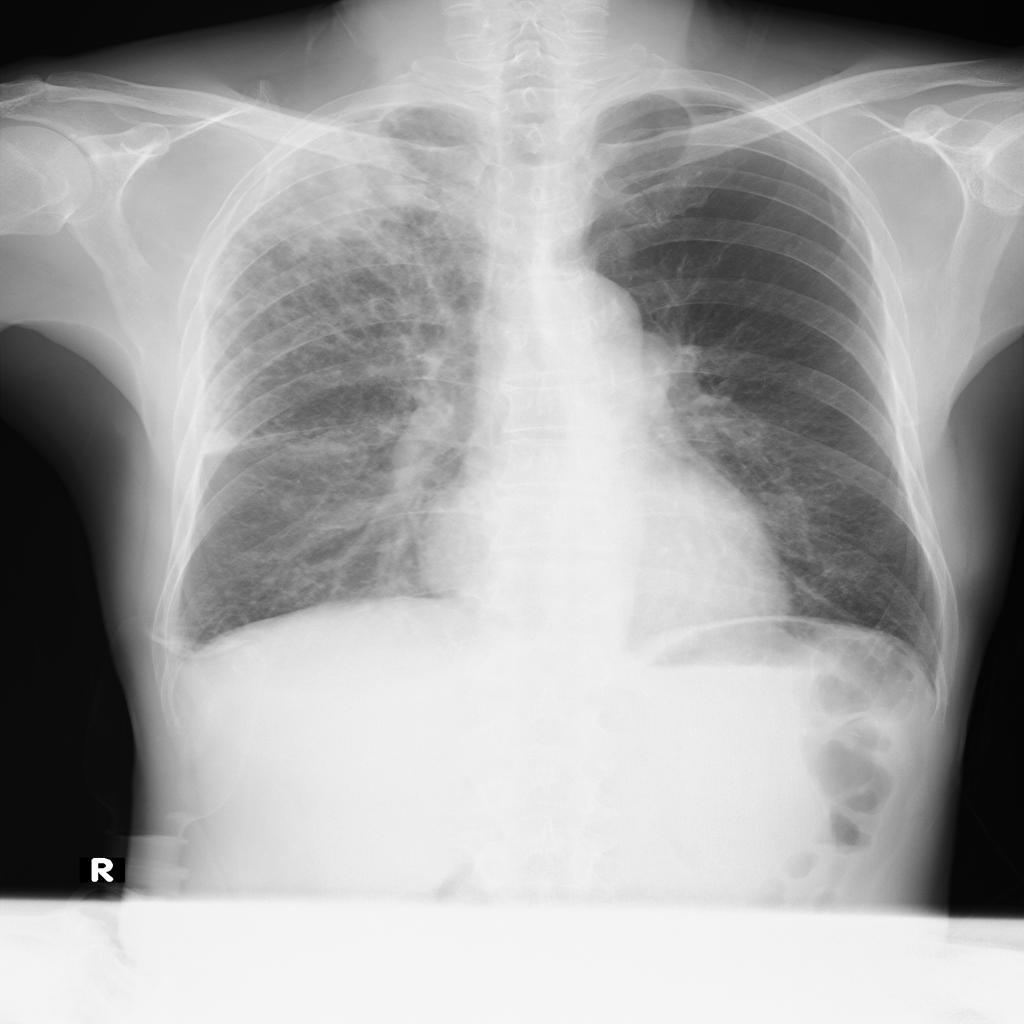Nodule: (234, 126, 428, 239)
